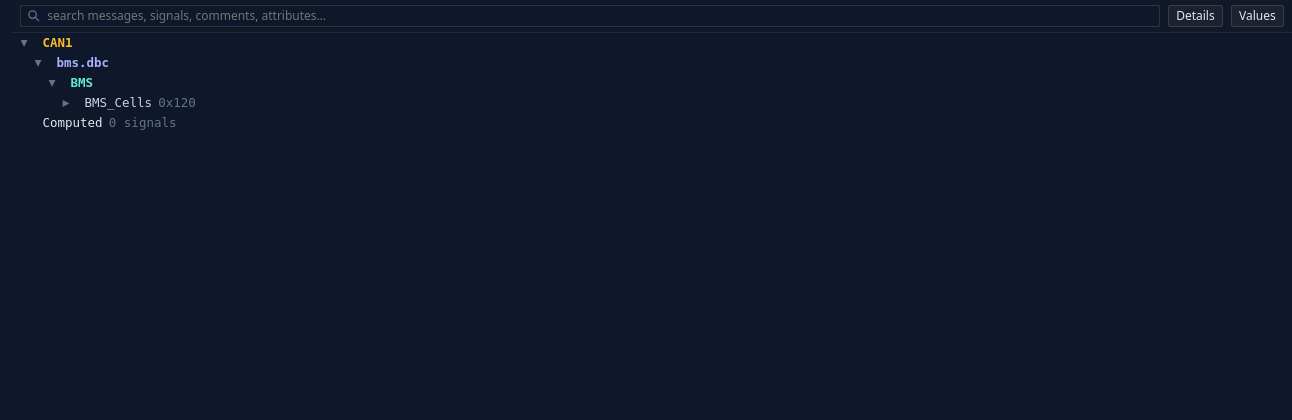
creating one › shows an unfinished definition as unnamed, with the host's reason
Check: the text "Computed" is shown, box [42,115,102,130]
Right-click the element with class "dbc-panel-tree".
right_click(57, 43)  # box [12,34,196,130]
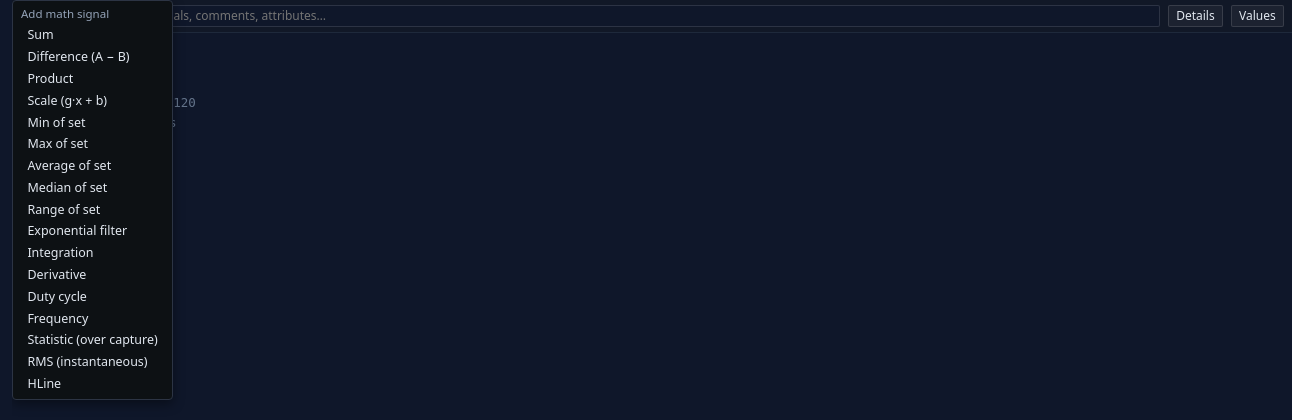
Click the menu item "Sum".
click(93, 35)  # box [21,24,164,46]
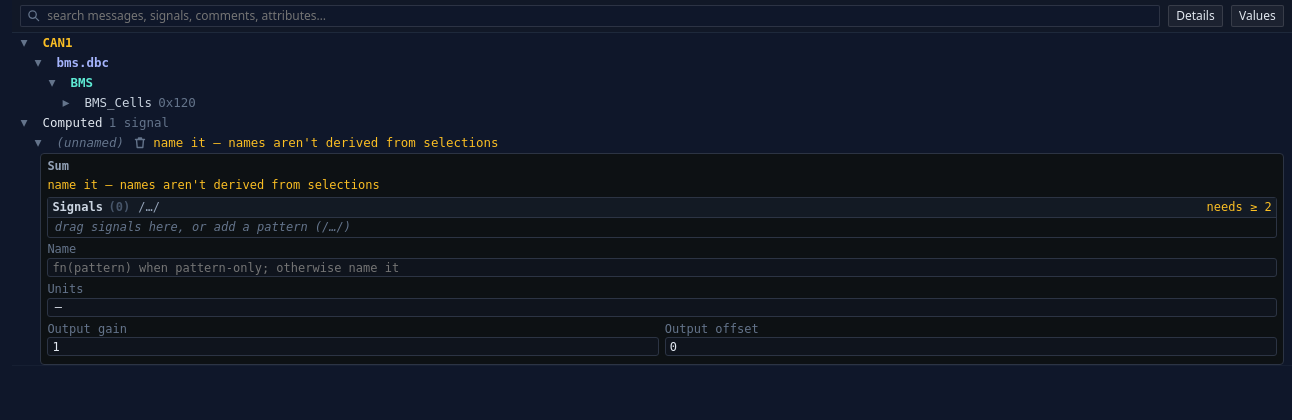
Check: the text "(unnamed)" is shown, box [56,135,124,150]
Check: the list item "(unnamed)" shows "name it", box [153,135,498,150]
